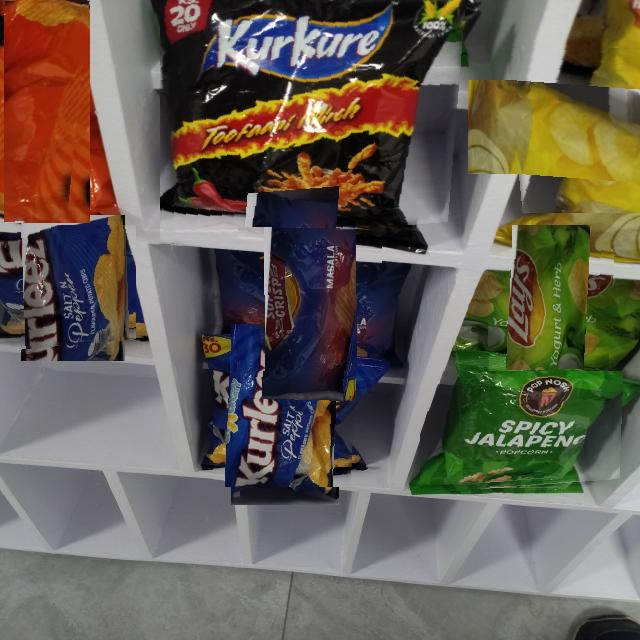Plastic: (160, 0, 468, 247), (420, 371, 624, 494), (506, 40, 640, 213), (213, 341, 357, 487), (238, 227, 382, 371), (5, 0, 90, 223), (488, 249, 615, 377), (11, 225, 136, 350)
